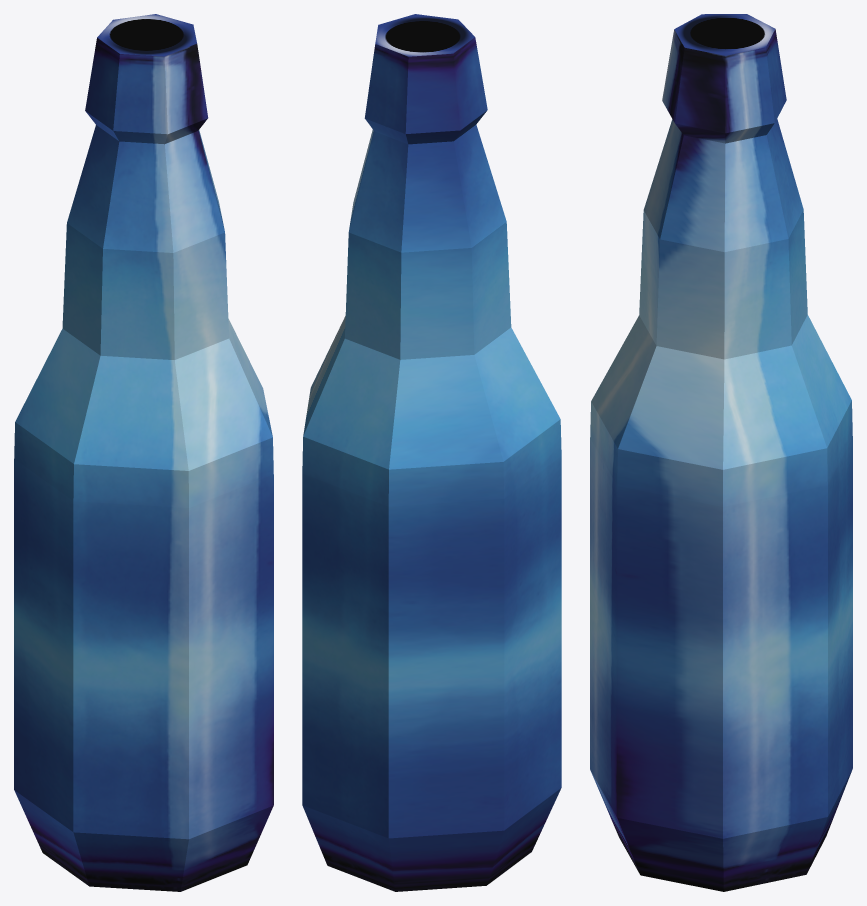
Rendered from Bottle02.fbx.
The picture shows the model from 3 angles, left to right: view 1: azimuth 30°, elevation 25°; view 2: azimuth 150°, elevation 25°; view 3: azimuth 270°, elevation 25°; orthographic projection.
Visible parts, largest first — view 1: Empty_Mesh; view 2: Empty_Mesh; view 3: Empty_Mesh.
Part boxes in pixels (left/top/right/bottom): Empty_Mesh: left=14, top=14, right=273, bottom=891; Empty_Mesh: left=302, top=14, right=561, bottom=891; Empty_Mesh: left=590, top=14, right=852, bottom=891.
Size of the model in its own units: 12.76 by 44.65 by 13.06.
